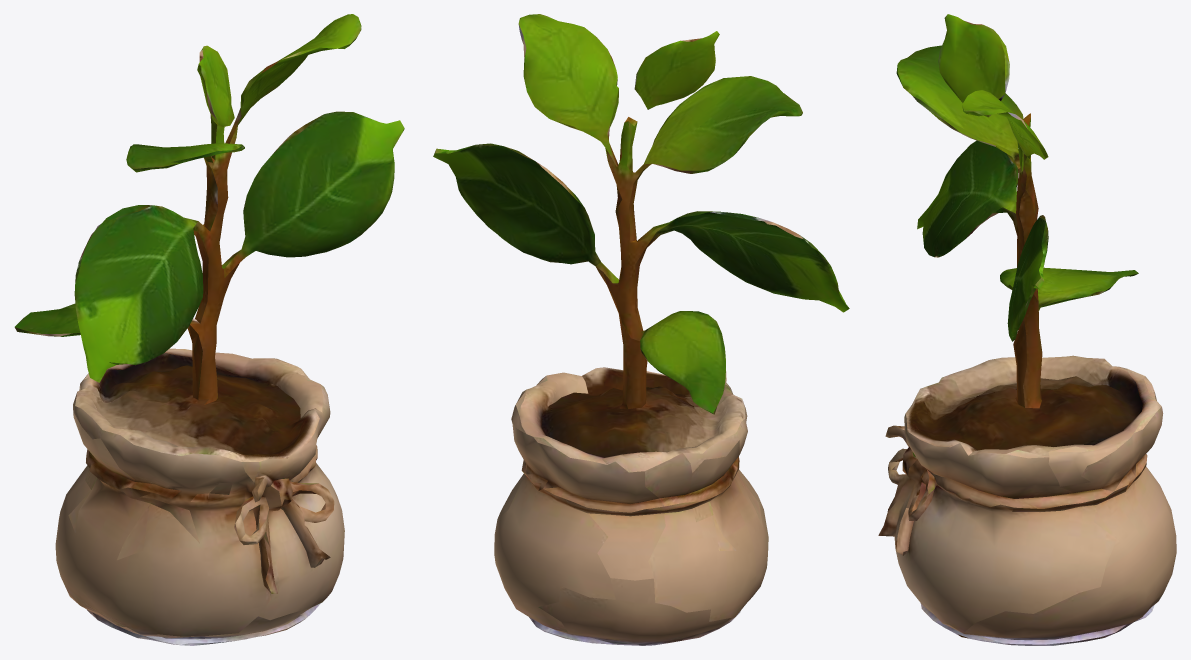
File: sapling_persimmon.glb
The picture shows the model from 3 angles, left to right: view 1: azimuth 30°, elevation 25°; view 2: azimuth 150°, elevation 25°; view 3: azimuth 270°, elevation 25°; orthographic projection. The views are drawn at different scales.
Visible parts, largest first — view 1: sapling_persimmon; view 2: sapling_persimmon; view 3: sapling_persimmon.
Part boxes in pixels (bbox=[...]): sapling_persimmon: bbox=[14, 14, 404, 645]; sapling_persimmon: bbox=[433, 14, 849, 645]; sapling_persimmon: bbox=[878, 14, 1176, 645].
Size of the model in its own units: 0.6805 by 1 by 0.4776.
Materials: 1 (1 with a texture image).
